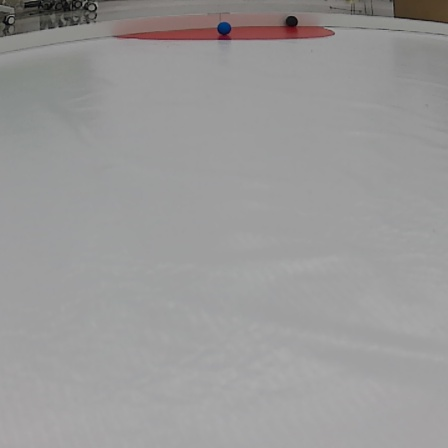black: (285, 15, 300, 29)
blue: (216, 21, 233, 37)
red_base: (112, 26, 337, 43)
